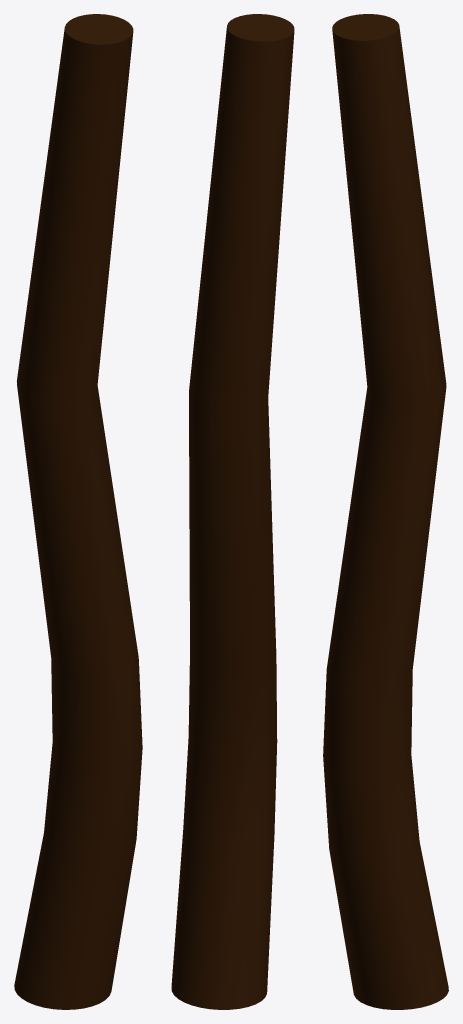
The model's file is Tree4.fbx.
The picture shows the model from 3 angles, left to right: view 1: azimuth 90°, elevation 25°; view 2: azimuth 150°, elevation 25°; view 3: azimuth 270°, elevation 25°; orthographic projection.
Visible parts, largest first — view 1: Cylinder.004; view 2: Cylinder.004; view 3: Cylinder.004.
Part boxes in pixels (x1,y1,x2,y2): Cylinder.004: (14,14,142,1009); Cylinder.004: (171,14,294,1009); Cylinder.004: (323,14,448,1009).
Bounding box in the file's own units: 248 × 2353 × 281.
